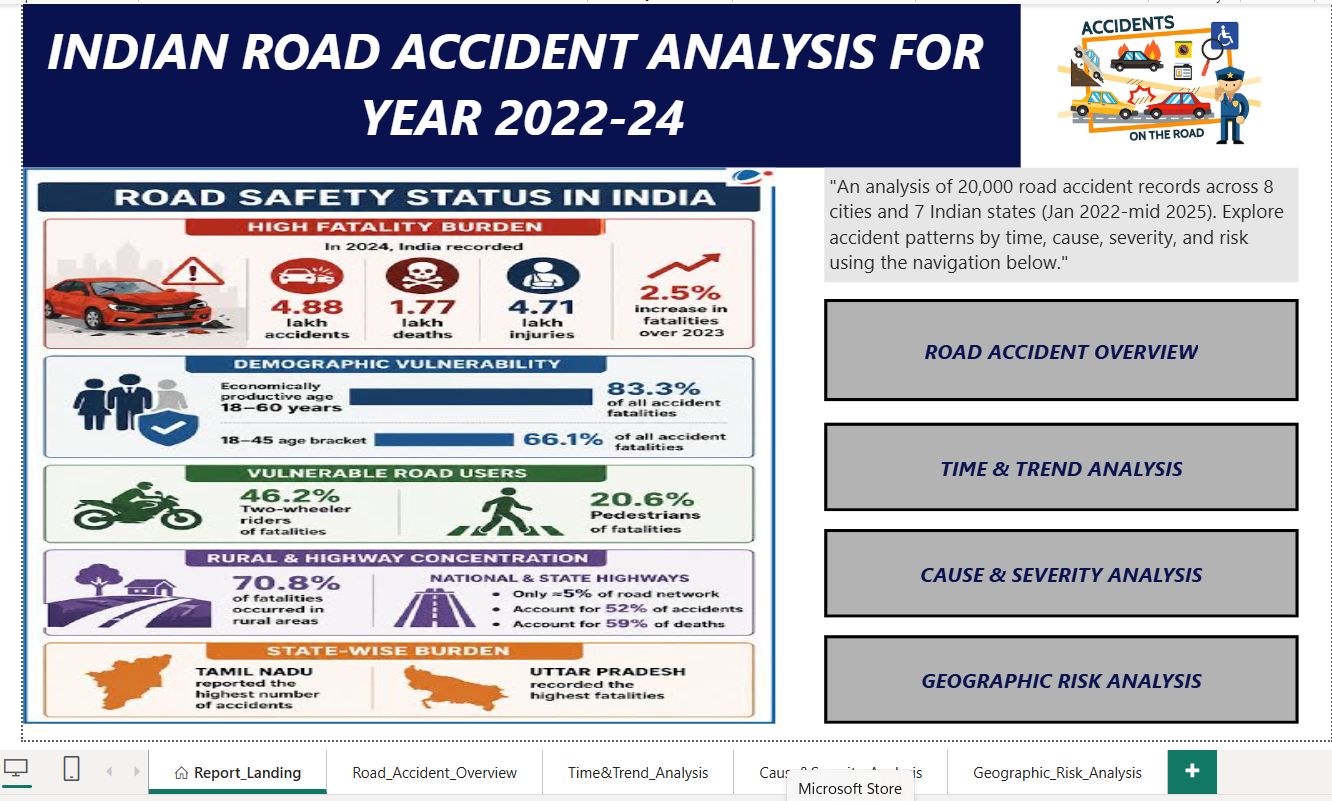

What the dashboard file says about the page in this screenshot:
{"tool":"powerbi","page":{"name":"Report_Landing","canvas":[1280,720],"ordinal":0},"visuals":[{"type":"textbox","box":[0,0,976,160],"z":0},{"type":"actionButton","title":"ROAD ACCIDENT OVERVIEW","box":[784,288,464,99.8],"z":0,"group":"g1"},{"type":"textbox","box":[784,160,464,112],"z":1000},{"type":"actionButton","box":[784,409.3,464,86.7],"z":1000,"group":"g1"},{"type":"group","id":"g1","title":"Group 1","box":[784,288,464,416],"z":2000},{"type":"actionButton","box":[784,513.3,464,86.7],"z":2000,"group":"g1"},{"type":"image","box":[0,160,736,544],"z":3000},{"type":"actionButton","box":[784,617.3,464,86.7],"z":3000,"group":"g1"},{"type":"image","box":[992,0,240,144],"z":4000}]}

Visuals, with their boxes in screenshot pixels (x1, y1, x2, y2):
textbox: bbox=[17, 0, 1019, 164]
"ROAD ACCIDENT OVERVIEW" actionButton: bbox=[822, 296, 1298, 398]
textbox: bbox=[822, 164, 1298, 279]
actionButton: bbox=[822, 420, 1298, 509]
"Group 1" group: bbox=[822, 296, 1298, 722]
actionButton: bbox=[822, 527, 1298, 616]
image: bbox=[17, 164, 773, 722]
actionButton: bbox=[822, 633, 1298, 722]
image: bbox=[1035, 0, 1282, 148]
